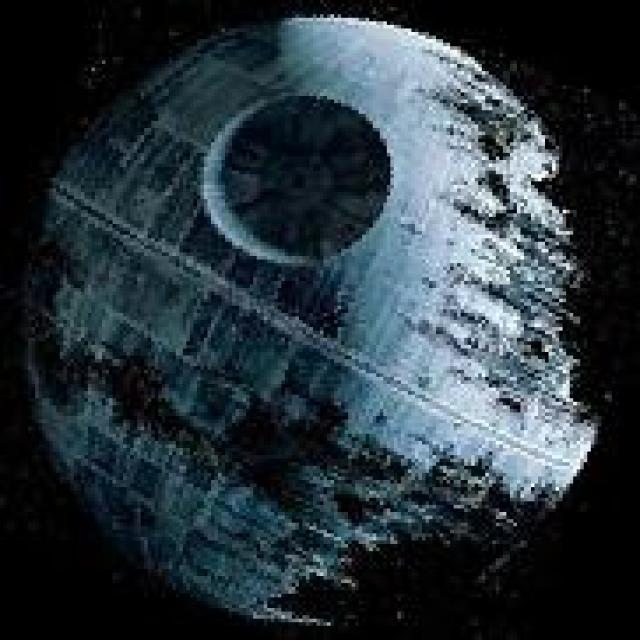Death Star: (14, 7, 608, 633)
